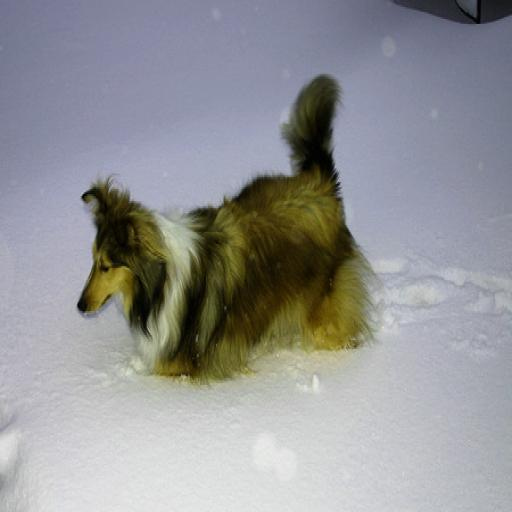dog_face: (67, 188, 162, 334)
